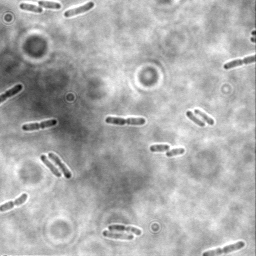Dividing: (48, 151, 73, 180), (201, 240, 245, 255), (0, 192, 29, 213), (222, 53, 255, 71), (21, 118, 58, 133), (0, 83, 24, 106), (104, 116, 147, 127), (108, 224, 144, 236)
Rod: (40, 153, 63, 179), (63, 2, 95, 19), (193, 107, 216, 126), (102, 229, 135, 242), (185, 110, 206, 128), (19, 2, 45, 14), (37, 0, 62, 11), (165, 147, 186, 158), (149, 143, 171, 153)
